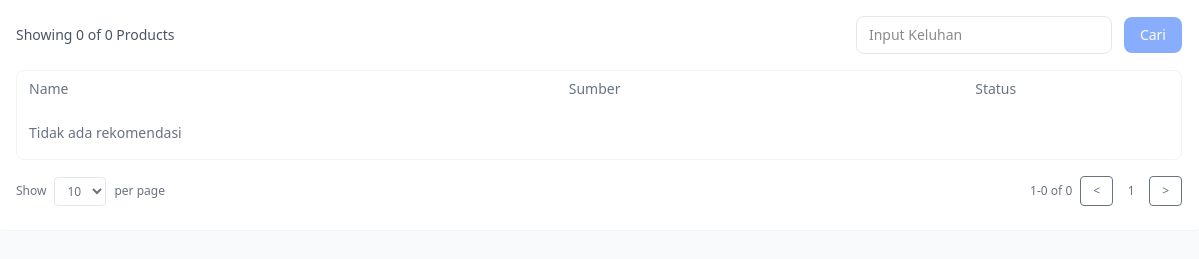
substitutions module › handles search error
The image size is (1199, 259).
Type "demam" into the field with placeholder "Input Keluhan". click: (984, 35)
box: [856, 16, 1112, 54]
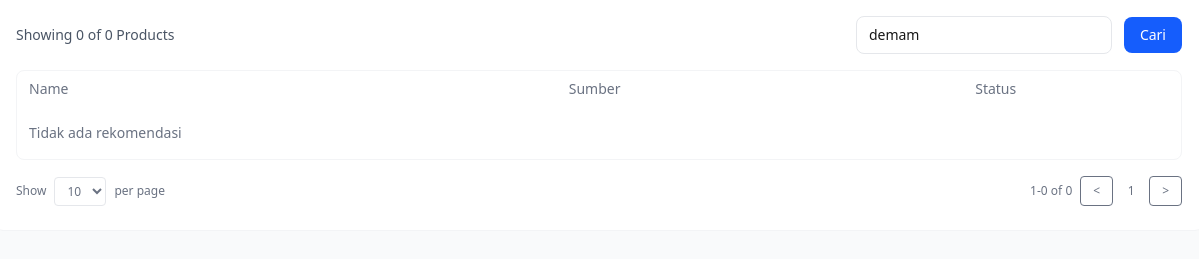
Click the button "Cari". click: (1153, 35)
box: [1124, 17, 1182, 53]
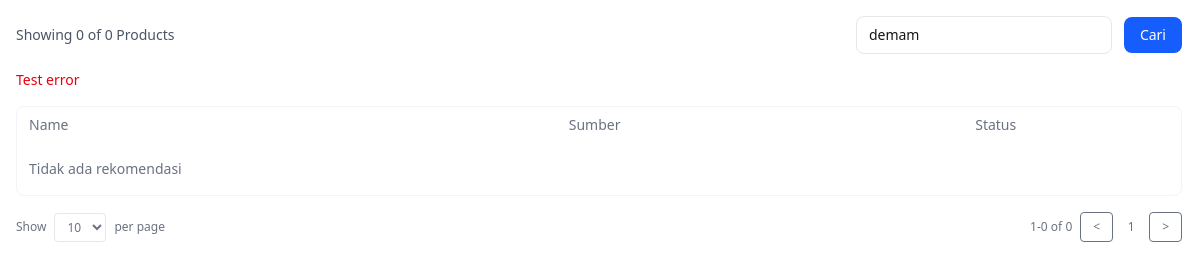
Now the text "Test error" is shown, box [16, 70, 80, 89]
